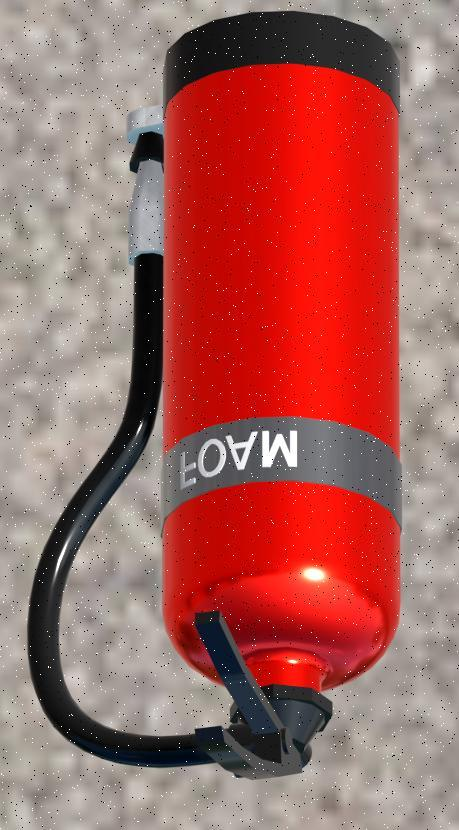Fire Extinguisher: (22, 23, 422, 795)
